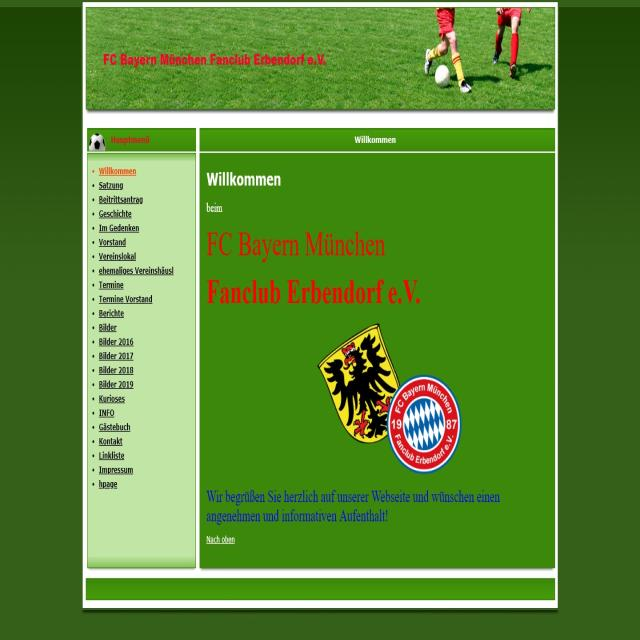button: (92, 264, 175, 276), (90, 161, 138, 178), (90, 191, 144, 205), (92, 293, 154, 305), (90, 206, 134, 220), (92, 462, 134, 476), (91, 250, 137, 262), (91, 222, 140, 233), (92, 335, 135, 347), (92, 349, 134, 361), (92, 363, 134, 375), (92, 377, 134, 389), (92, 390, 126, 404), (91, 434, 124, 448), (92, 420, 130, 432), (90, 178, 127, 190), (92, 448, 125, 461), (91, 279, 125, 291), (91, 236, 128, 247), (92, 307, 125, 319), (92, 477, 119, 490), (92, 321, 118, 332), (92, 406, 115, 418)
heading: (206, 278, 427, 318), (205, 228, 390, 266), (101, 48, 328, 66), (206, 166, 284, 196), (352, 132, 398, 150), (108, 132, 152, 148)
image: (86, 8, 556, 113), (318, 322, 464, 480)
text: (205, 484, 504, 526), (205, 534, 242, 552), (204, 201, 228, 217)
